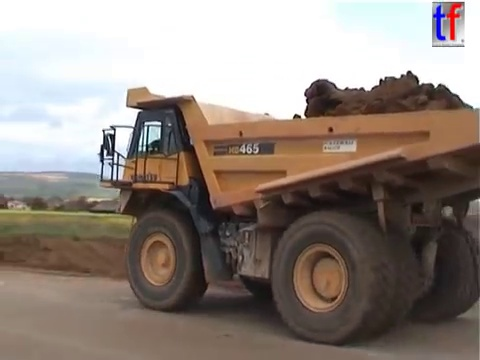truck: (94, 83, 480, 348)
